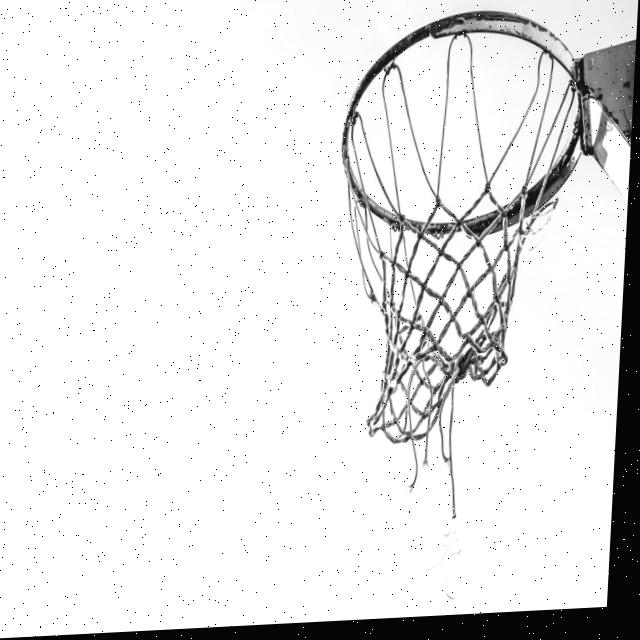hoop: (323, 4, 592, 526)
